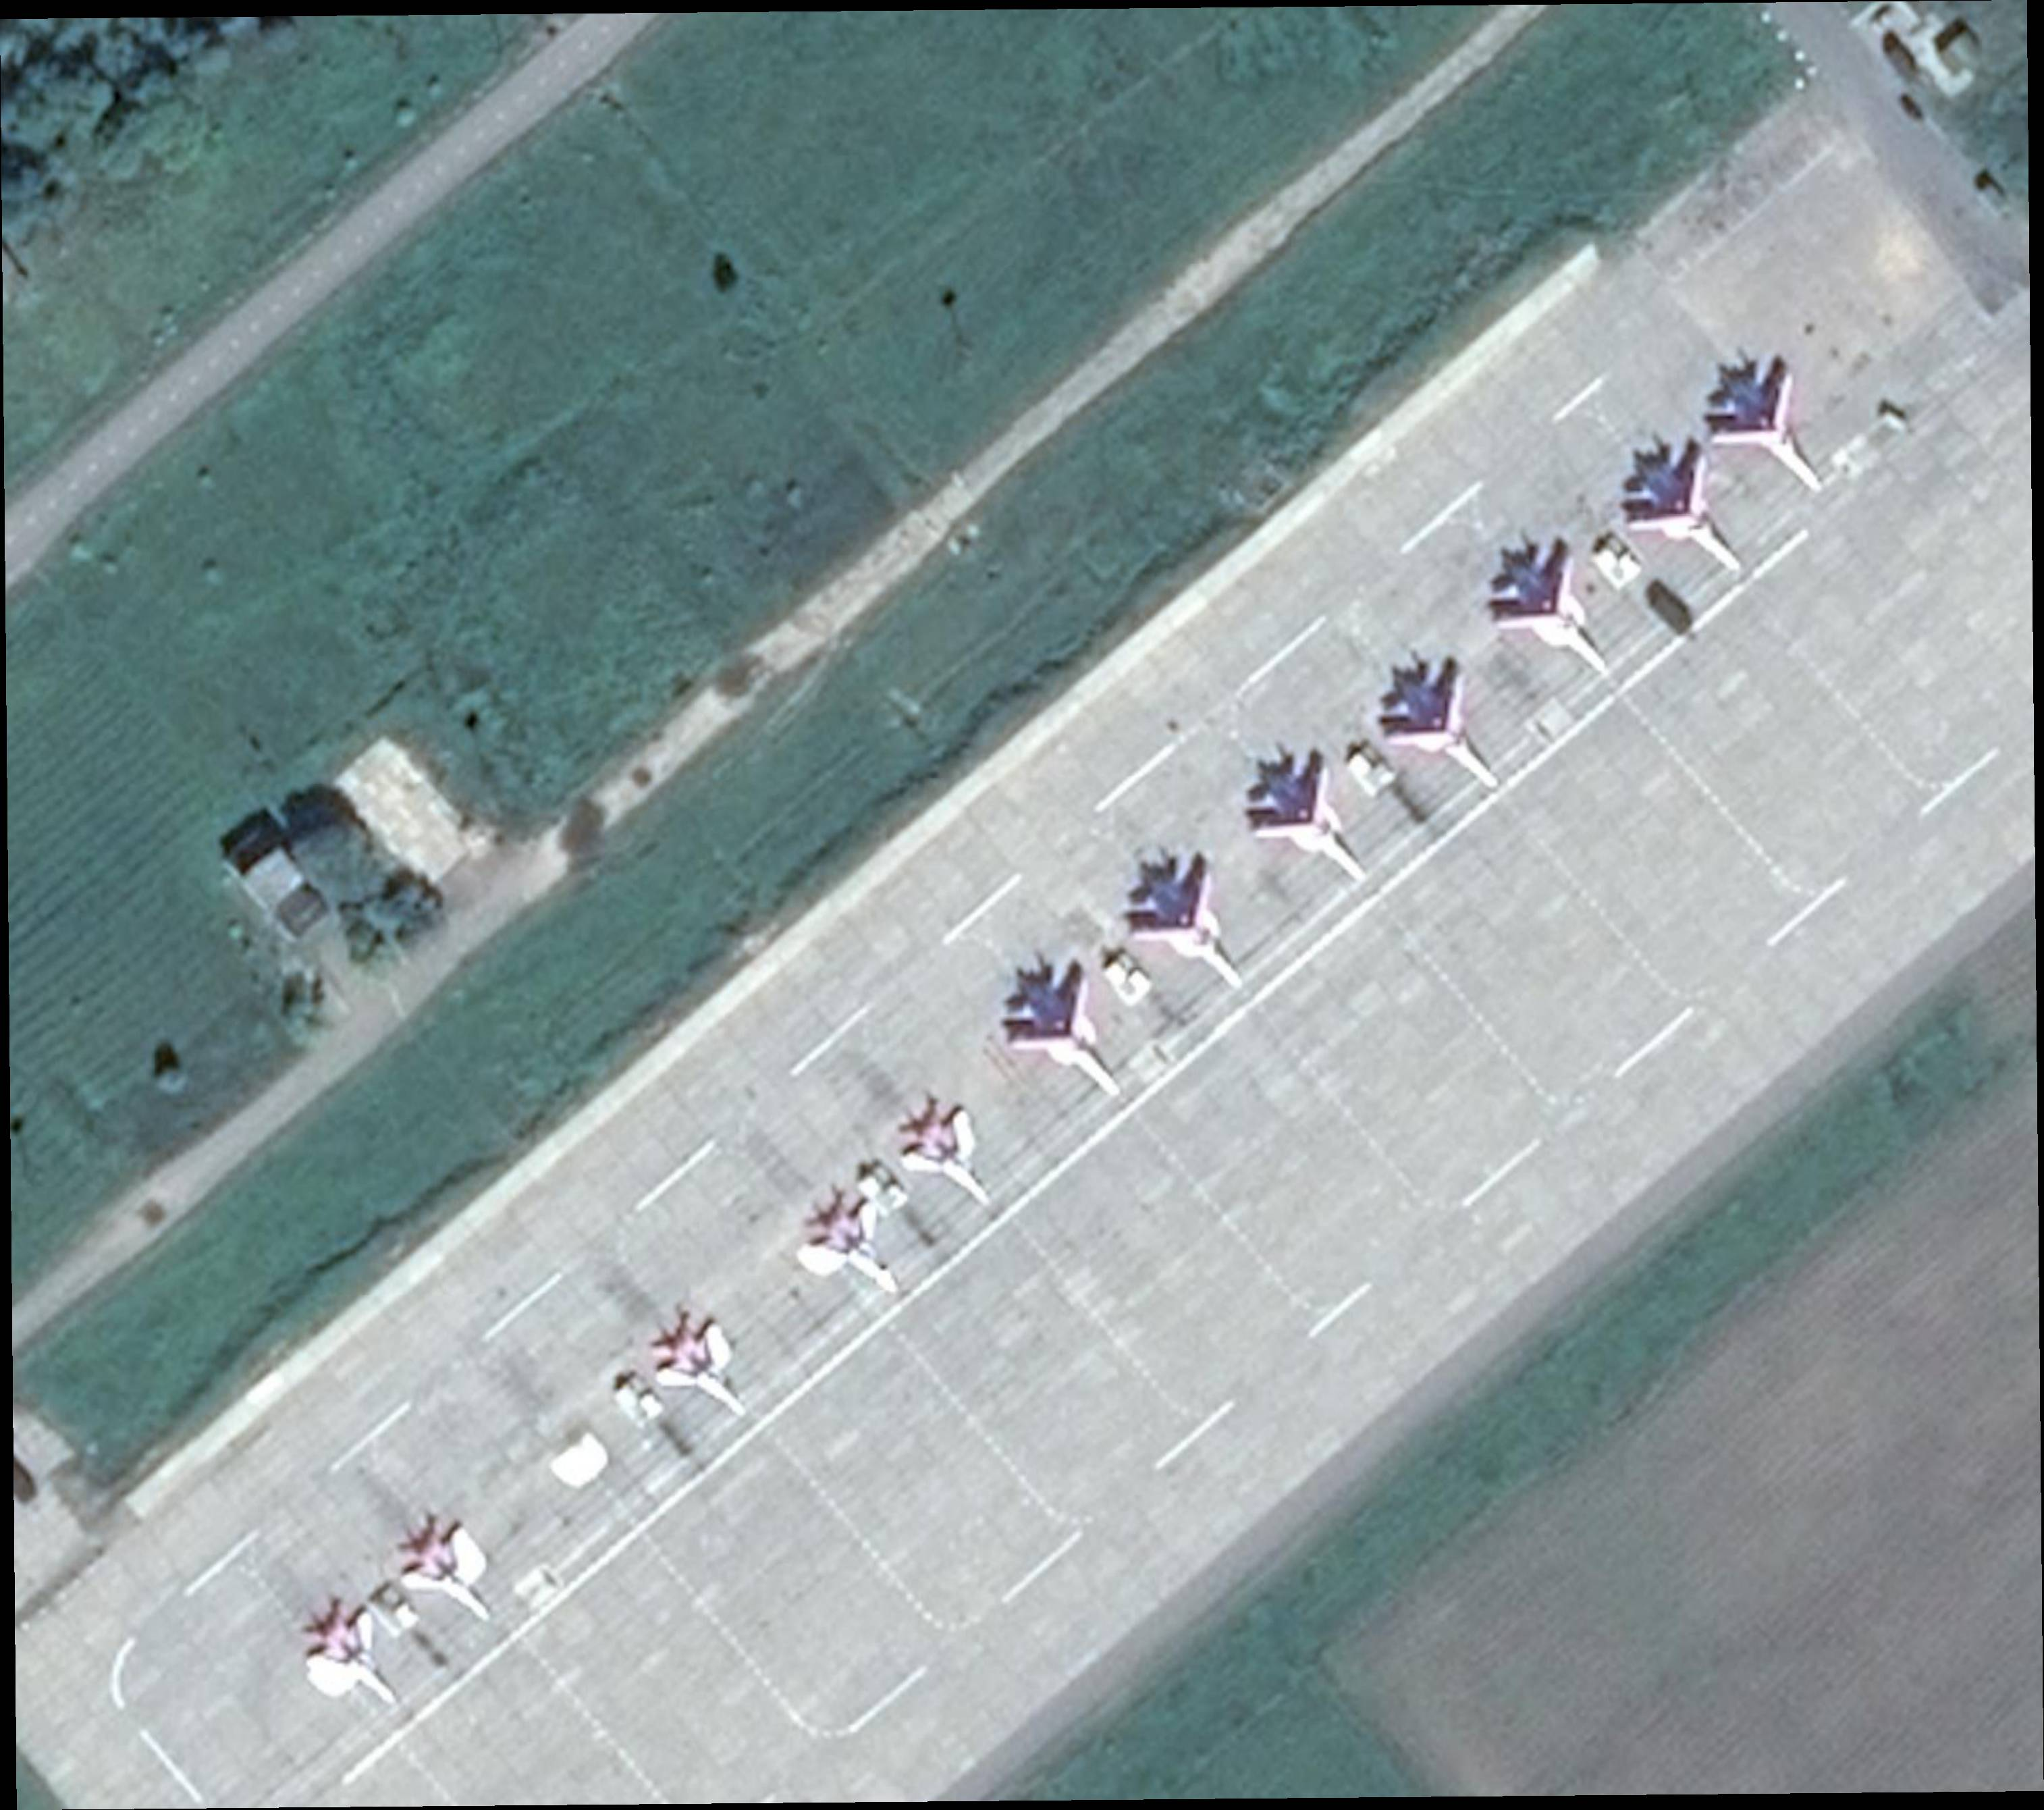plane: (1592, 418, 1778, 606), (1464, 515, 1644, 708), (978, 938, 1158, 1129), (1675, 332, 1855, 521), (1099, 826, 1275, 1017), (1356, 638, 1530, 823), (1226, 732, 1396, 915), (377, 1497, 522, 1649), (783, 1176, 929, 1324), (281, 1586, 425, 1738), (629, 1296, 774, 1443), (880, 1083, 1017, 1228)
